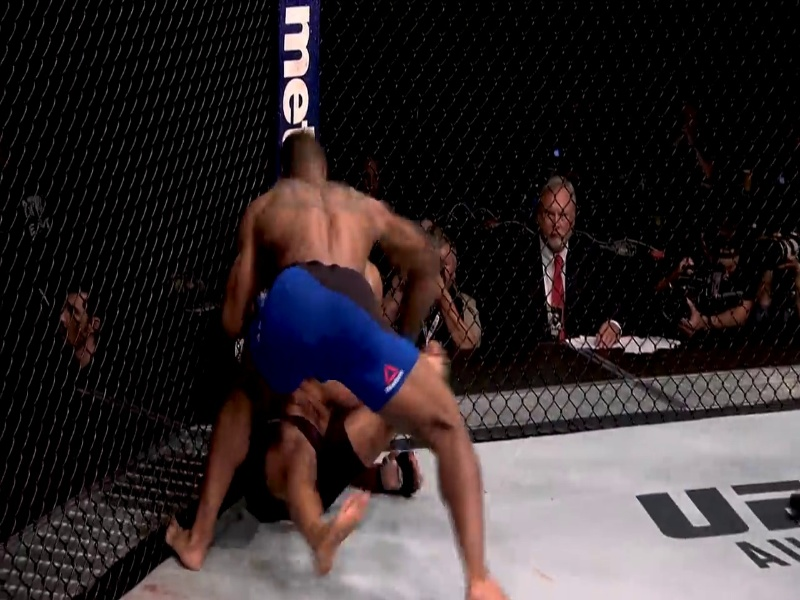fighter: (172, 124, 519, 600), (242, 368, 448, 562)
